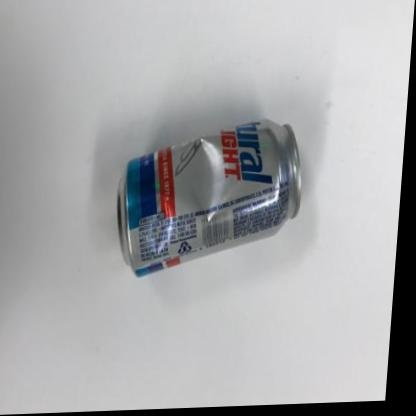trash: (118, 120, 300, 276)
